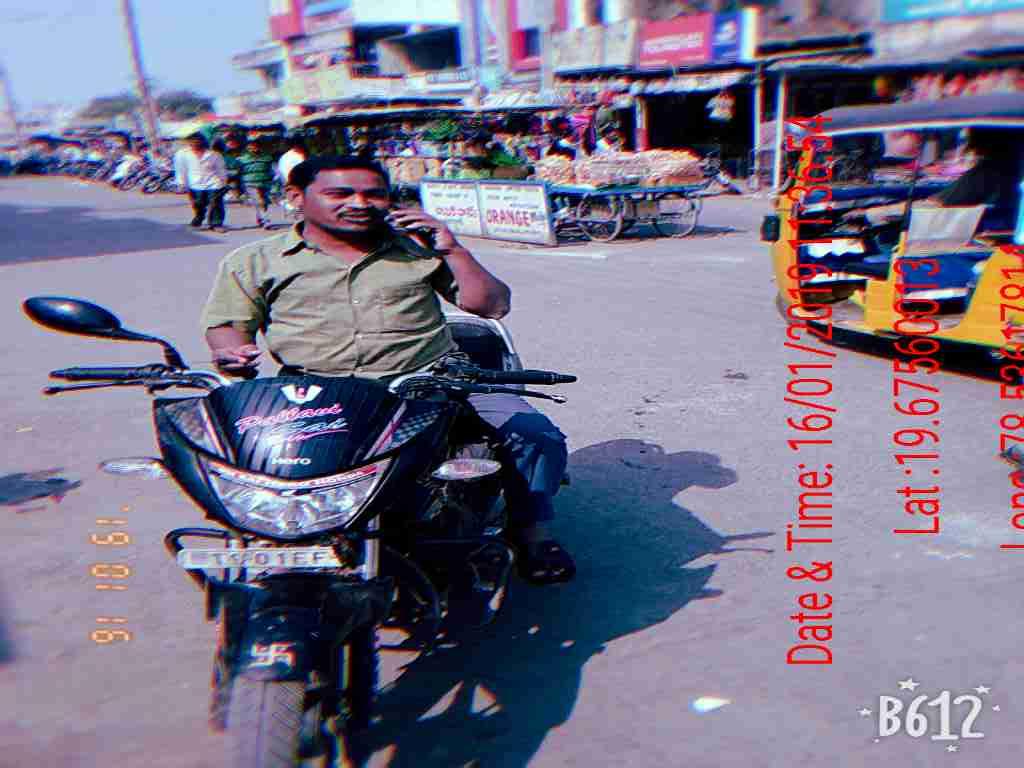plate: (175, 542, 353, 580)
